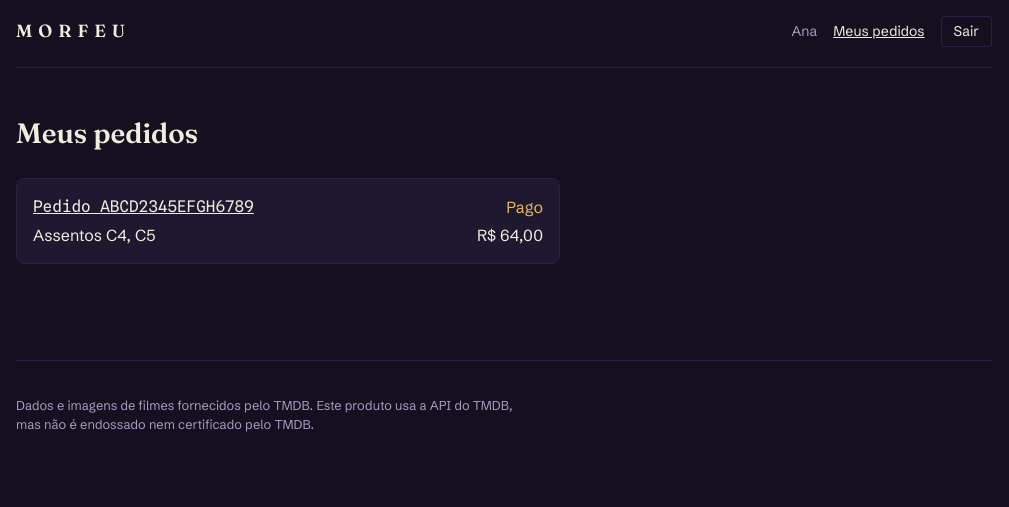
it: meus pedidos › lista com situação, assentos e total; abre o detalhe com o Bearer
expect the text "Pago" is shown: met, box 506,197 -> 543,217
expect the text "Assentos C4, C5" is shown: met, box 33,225 -> 156,245
Click the link "Pedido ABCD2345EFGH6789" at [143, 206], box 33,197 -> 254,216
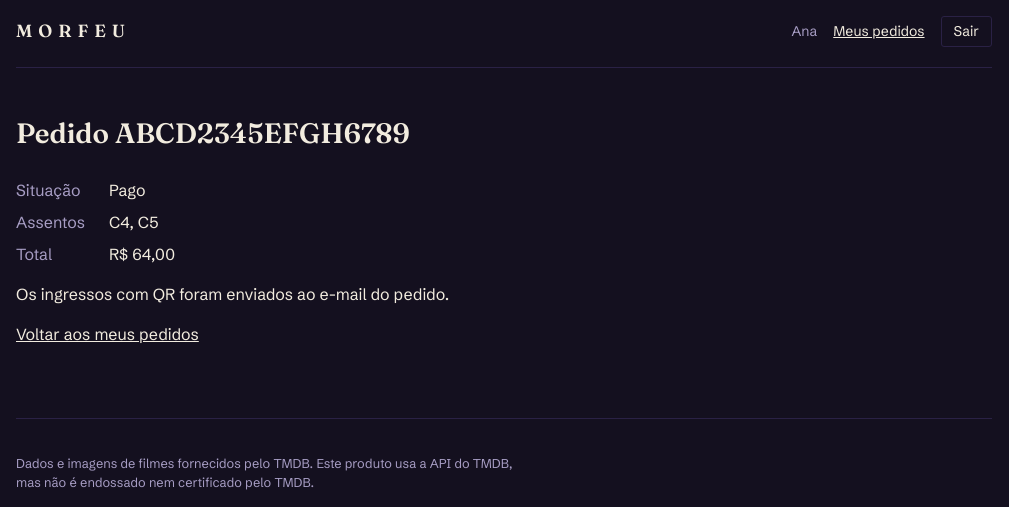
expect the heading "Pedido ABCD2345EFGH6789" is shown: met, box 16,116 -> 410,150
expect the text "Os ingressos com QR foram enviados ao e-mail do pedido." is shown: met, box 16,284 -> 449,304
